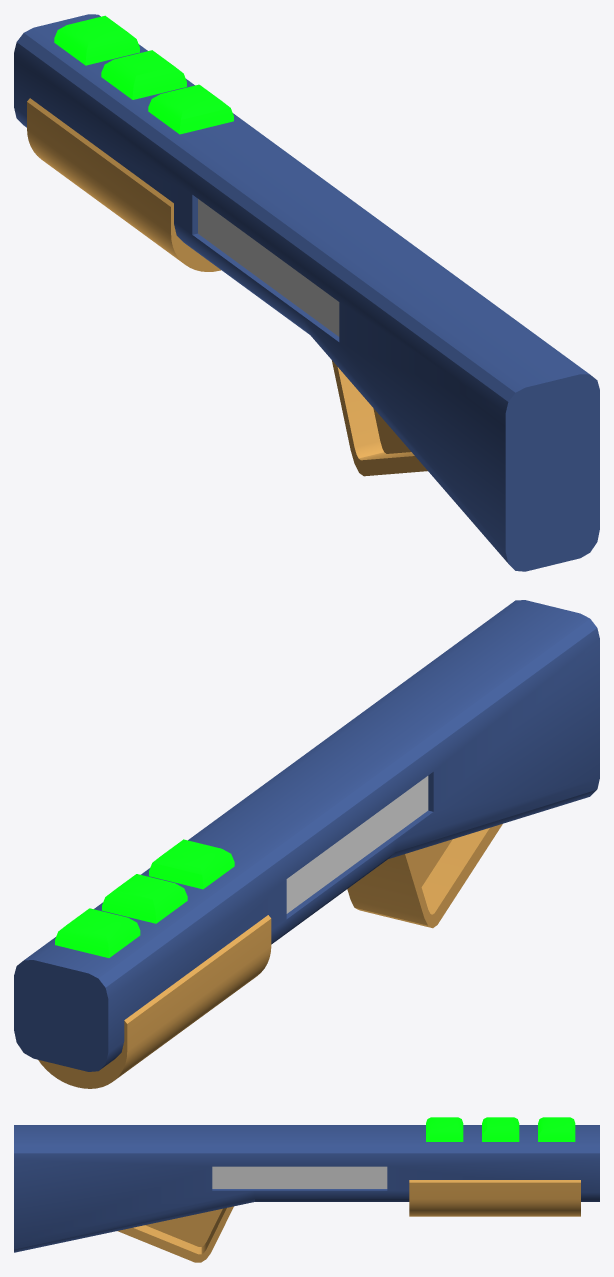
Rendered from Pulse Pass1.fbx.
3 views of the same model, one above another, from view 1: azimuth 30°, elevation 25°; view 2: azimuth 150°, elevation 25°; view 3: azimuth 270°, elevation 25° (orthographic). The views are drawn at different scales.
Parts seen in each view (by area): view 1: Barrel, Cube.004, Cube_slice, Trigger, Button3, Button1, Button2; view 2: Barrel, Cube.004, Trigger, Cube_slice, Button3, Button2, Button1; view 3: Barrel, Cube.004, Cube_slice, Trigger, Button1, Button2, Button3.
Part boxes in pixels (box(x1,y1,x2,y2)): Barrel: box(14, 14, 599, 571); Cube.004: box(27, 98, 220, 271); Cube_slice: box(198, 199, 339, 336); Trigger: box(332, 360, 427, 476); Button3: box(148, 84, 233, 134); Button1: box(54, 15, 139, 65); Button2: box(101, 50, 186, 99); Barrel: box(14, 600, 599, 1071); Cube.004: box(38, 915, 271, 1088); Trigger: box(347, 824, 502, 928); Cube_slice: box(286, 776, 428, 913); Button3: box(149, 839, 234, 889); Button2: box(102, 874, 187, 923); Button1: box(55, 908, 140, 957); Barrel: box(14, 1125, 599, 1252); Cube.004: box(409, 1180, 580, 1216); Cube_slice: box(212, 1166, 387, 1188); Trigger: box(117, 1206, 233, 1262); Button1: box(538, 1117, 575, 1141); Button2: box(482, 1117, 519, 1141); Button3: box(426, 1117, 463, 1141).
Bounding box in the file's own units: 58.71 × 123 × 499.
